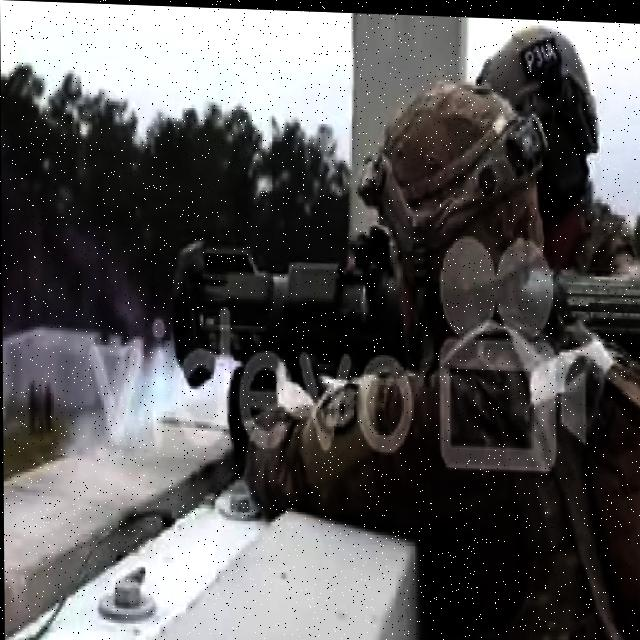rocket: (165, 238, 640, 396)
